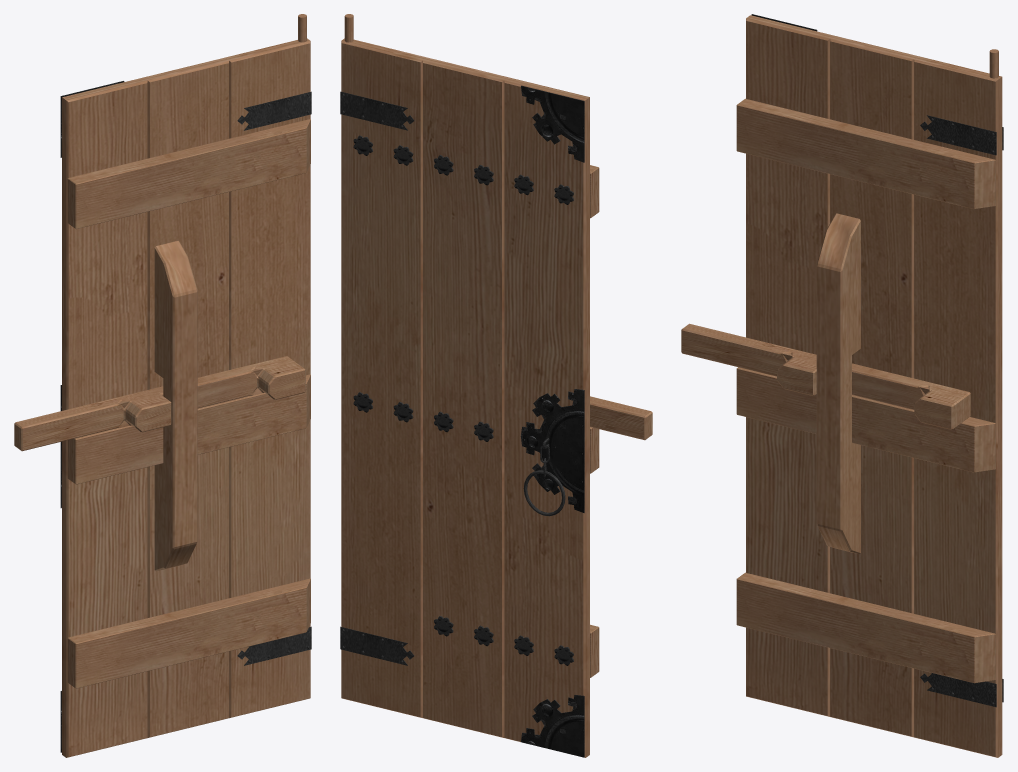
Rendered from SM_Gyedong_Door_03C.fbx.
3 renders of one model, left to right at view 1: azimuth 30°, elevation 25°; view 2: azimuth 150°, elevation 25°; view 3: azimuth 330°, elevation 25°, orthographic. The views are drawn at different scales.
Visible parts, largest first — view 1: SM_Gyedong_Door_03C; view 2: SM_Gyedong_Door_03C; view 3: SM_Gyedong_Door_03C.
Part boxes in pixels (bbox=[...]): SM_Gyedong_Door_03C: bbox=[14, 14, 311, 757]; SM_Gyedong_Door_03C: bbox=[340, 14, 652, 757]; SM_Gyedong_Door_03C: bbox=[681, 14, 1003, 757].
Size of the model in its own units: 71.55 by 156 by 12.93.
